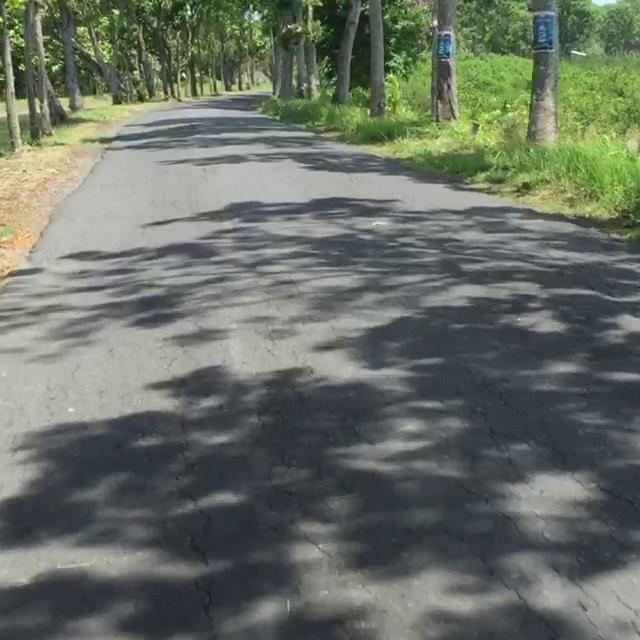retak_kulit_buaya: (444, 460, 640, 640)
